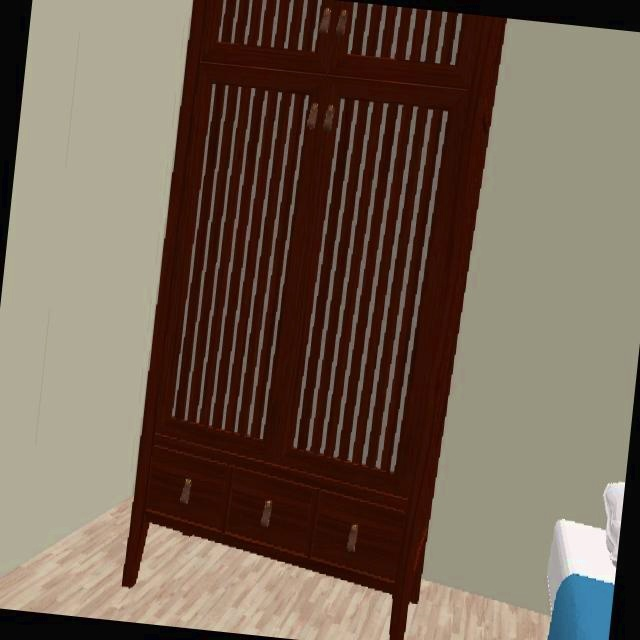bed: (545, 518, 616, 640)
pillow: (602, 482, 625, 568)
wardrobe: (122, 0, 507, 640)
